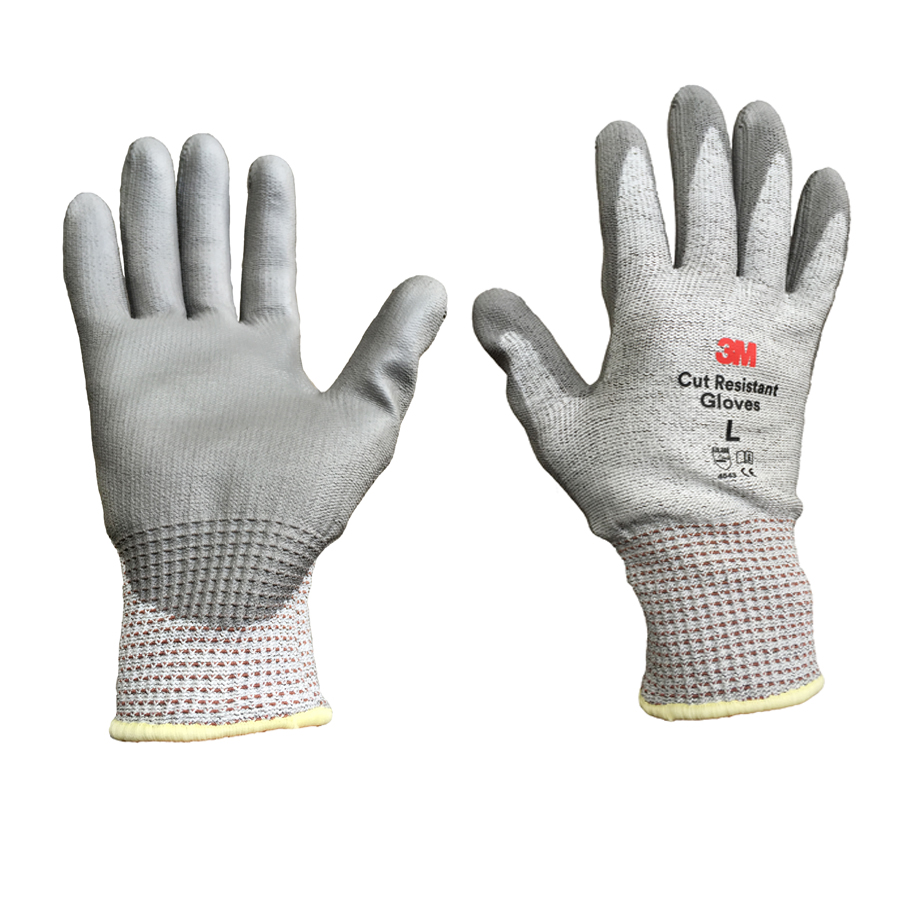3M: (706, 329, 773, 377)
